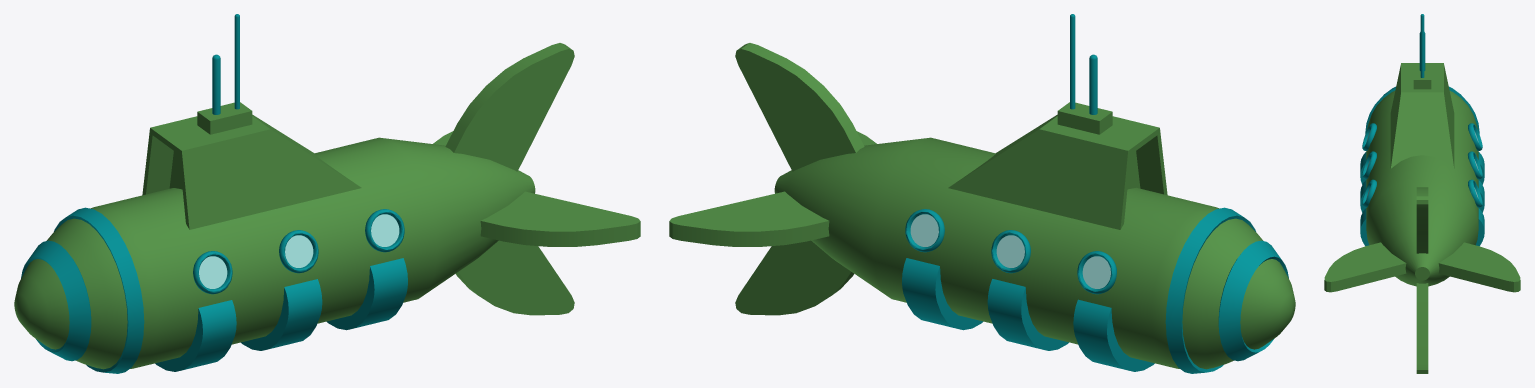
Rendered from Sommergibile.fbx.
The picture shows the model from 3 angles, left to right: view 1: azimuth 30°, elevation 25°; view 2: azimuth 150°, elevation 25°; view 3: azimuth 270°, elevation 25°; orthographic projection. The views are drawn at different scales.
Parts seen in each view (by area): view 1: Sphere.004; view 2: Sphere.004; view 3: Sphere.004.
Part boxes in pixels (bbox=[...]): Sphere.004: bbox=[14, 14, 640, 373]; Sphere.004: bbox=[669, 14, 1295, 373]; Sphere.004: bbox=[1324, 14, 1520, 373].
Bounding box in the file's own units: 763 × 496 × 349.
